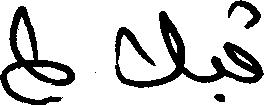X: (0, 1, 74, 104), (116, 6, 182, 92), (225, 0, 263, 88), (212, 41, 223, 104)
